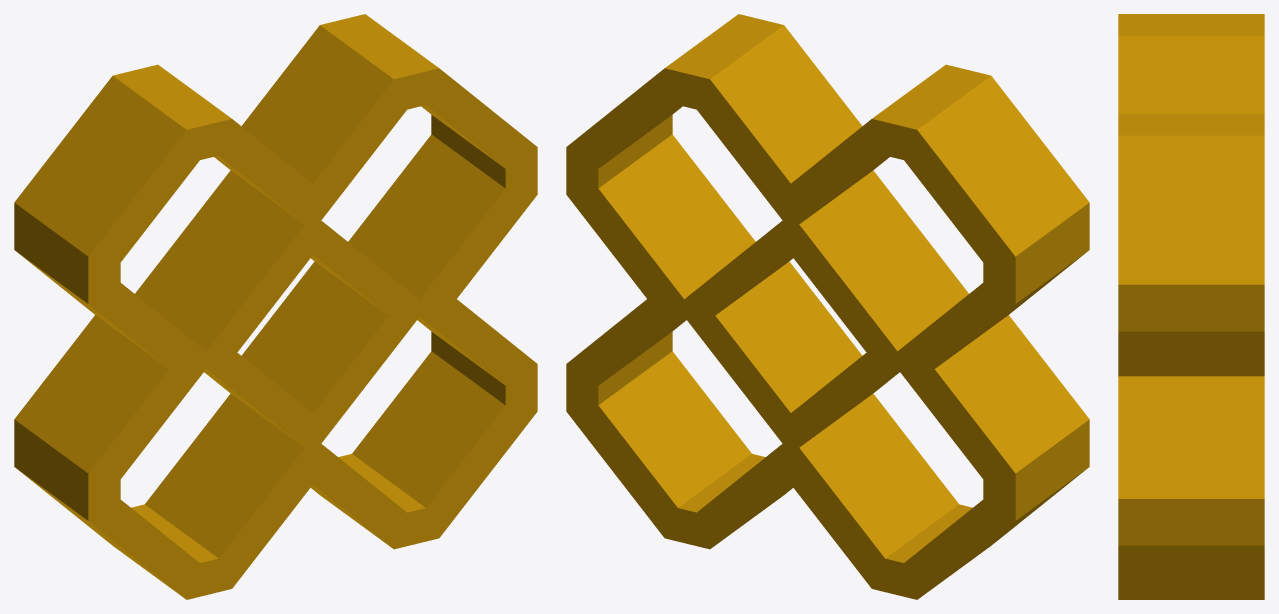
File: Diamond.gltf
The picture shows the model from 3 angles, left to right: view 1: azimuth 30°, elevation 25°; view 2: azimuth 150°, elevation 25°; view 3: azimuth 270°, elevation 25°; orthographic projection.
Visible parts, largest first — view 1: 8767; view 2: 8767; view 3: 8767.
Boxes of the visible parts, bbox=[...] form: 8767: bbox=[14, 14, 537, 599]; 8767: bbox=[566, 14, 1089, 599]; 8767: bbox=[1118, 14, 1264, 599].
Size of the model in its own units: 0.1437 by 0.1437 by 0.0411.
